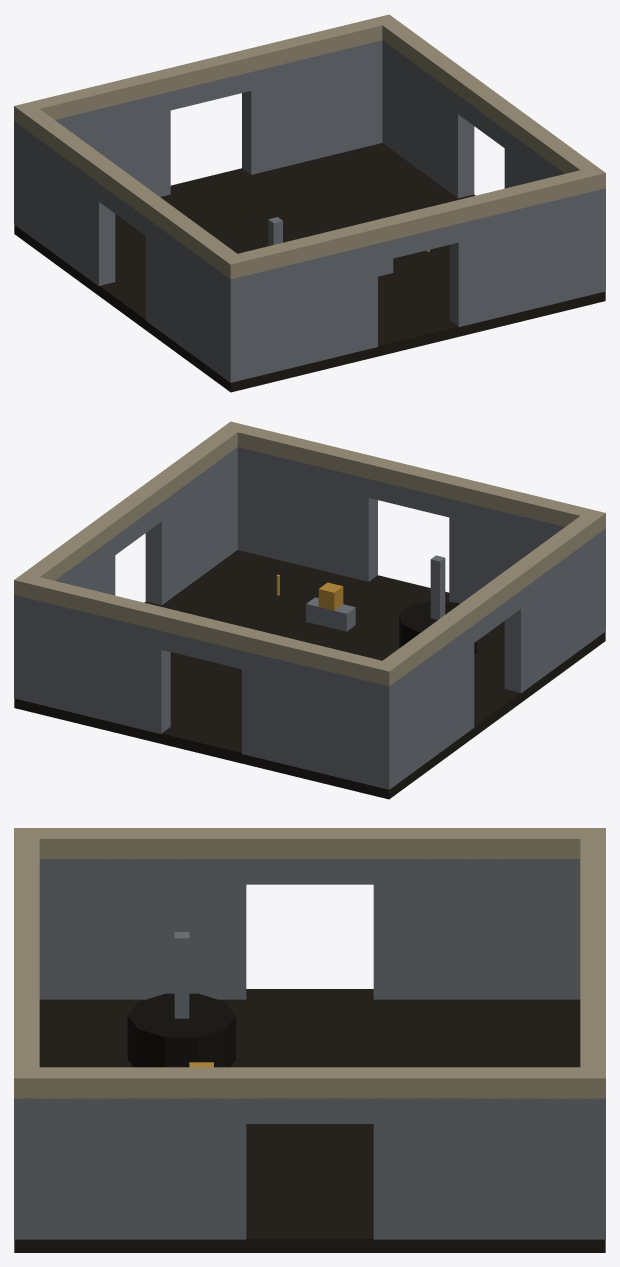
The model's file is BlacksmithShop.fbx.
3 renders of one model, top to bottom at view 1: azimuth 30°, elevation 25°; view 2: azimuth 150°, elevation 25°; view 3: azimuth 270°, elevation 25°, orthographic. The views are drawn at different scales.
Parts seen in each view (by area): view 1: BlacksmithShop; view 2: BlacksmithShop; view 3: BlacksmithShop.
Boxes of the visible parts, x1,y1,x2,y2 form: BlacksmithShop: [14, 14, 605, 392]; BlacksmithShop: [14, 421, 605, 799]; BlacksmithShop: [14, 828, 605, 1252].
Bounding box in the file's own units: 1202 × 392 × 1202.
Materials: 5 (5 with a texture image).
